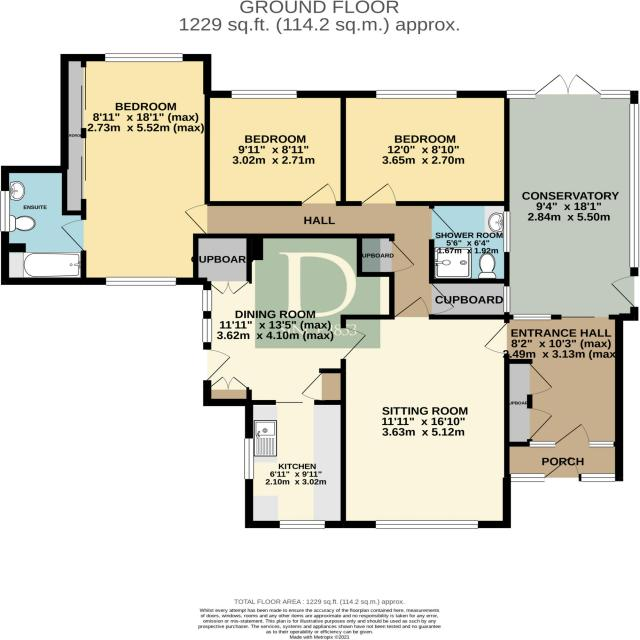DOOR: (629, 104, 639, 268), (544, 457, 581, 482), (610, 275, 638, 307), (203, 349, 230, 382), (555, 423, 591, 447), (60, 219, 87, 251), (302, 183, 338, 207), (361, 182, 397, 206), (394, 295, 429, 319), (428, 209, 454, 240), (527, 409, 553, 440), (341, 327, 366, 359), (528, 363, 552, 396), (485, 322, 508, 354), (184, 204, 208, 234), (302, 372, 322, 401)
DOUBLE DOOR: (535, 73, 601, 97)
ROOM: (483, 73, 640, 483), (202, 233, 395, 529), (340, 295, 512, 530), (59, 54, 212, 286), (340, 89, 510, 206), (204, 90, 346, 206)
WINDOW: (375, 520, 478, 529), (376, 90, 457, 99), (105, 53, 183, 62), (106, 277, 176, 286), (231, 90, 297, 99), (244, 438, 255, 479), (280, 519, 325, 529), (581, 472, 616, 482), (503, 211, 511, 252), (511, 473, 545, 482), (600, 90, 630, 99), (202, 319, 213, 343), (507, 90, 536, 99), (202, 289, 212, 312), (513, 314, 551, 320), (503, 286, 511, 312), (530, 441, 555, 447), (589, 441, 614, 447)
